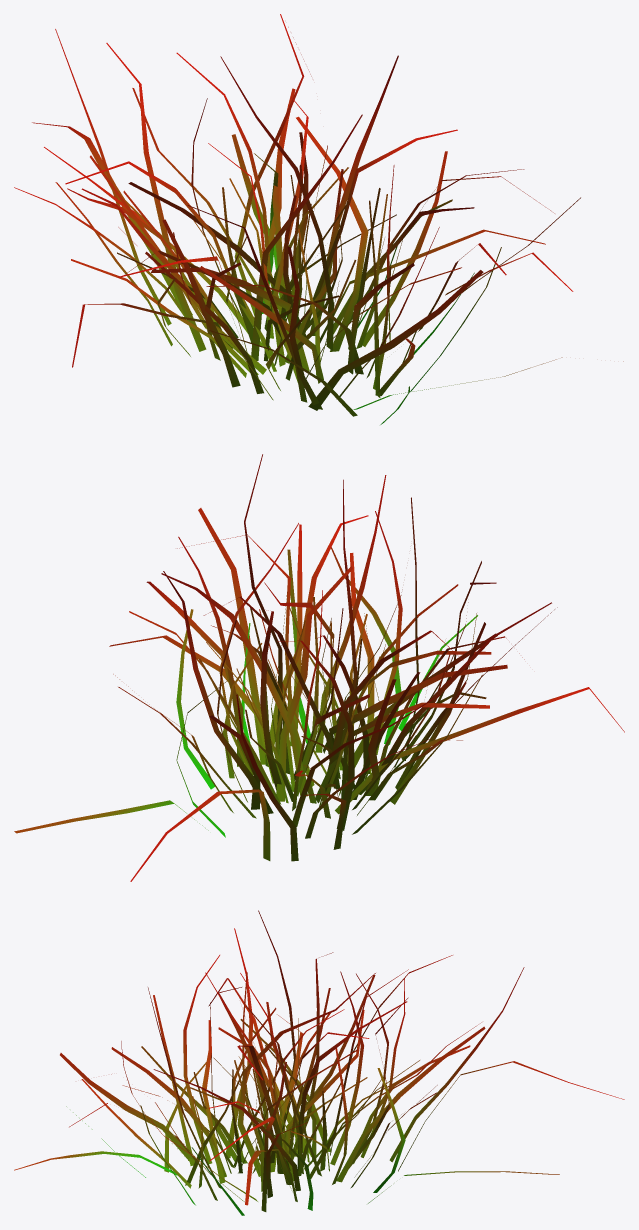
Rendered from vegetation_11.fbx.
The picture shows the model from 3 angles, top to bottom: view 1: azimuth 30°, elevation 25°; view 2: azimuth 150°, elevation 25°; view 3: azimuth 270°, elevation 25°; orthographic projection. The views are drawn at different scales.
Parts seen in each view (by area): view 1: _ll27_Var9_; view 2: _ll27_Var9_; view 3: _ll27_Var9_.
Part boxes in pixels (left/top/right/bottom): _ll27_Var9_: left=14, top=14, right=623, bottom=424; _ll27_Var9_: left=14, top=454, right=624, bottom=881; _ll27_Var9_: left=14, top=910, right=624, bottom=1215.
Size of the model in its own units: 19.05 by 11.53 by 26.34.
